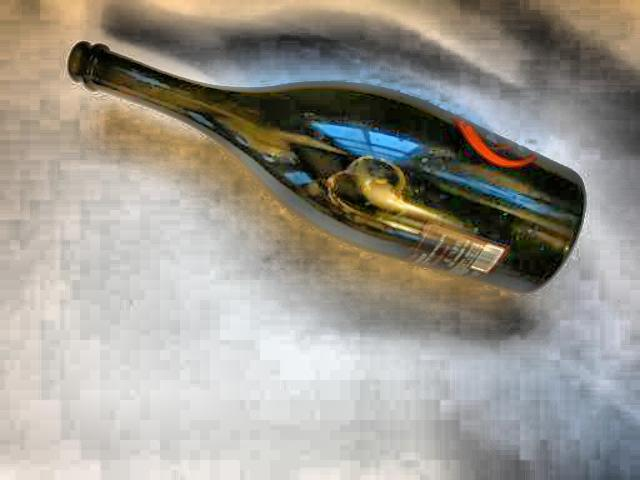Bottles: (56, 18, 594, 307)
